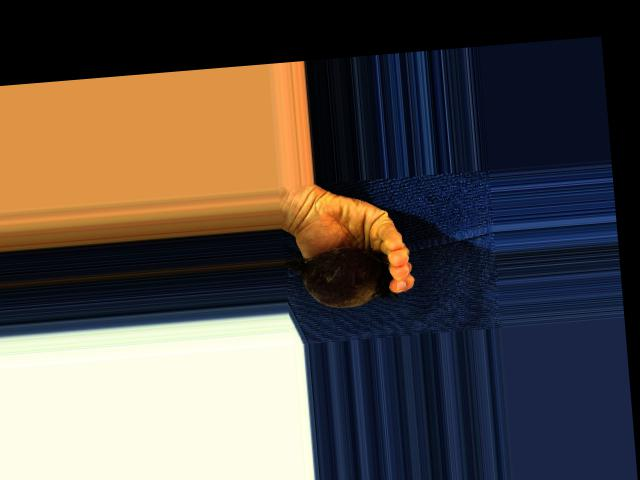beet: (284, 241, 400, 311)
